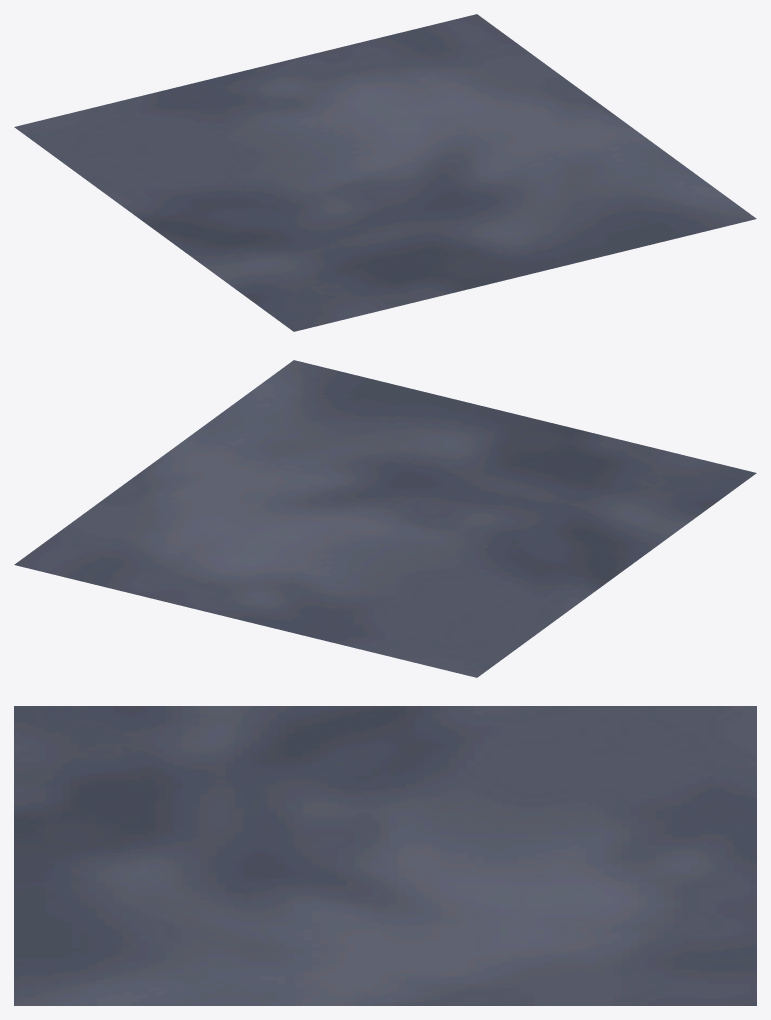
The model's file is WaterPlane_B.fbx.
3 renders of one model, top to bottom at view 1: azimuth 30°, elevation 25°; view 2: azimuth 150°, elevation 25°; view 3: azimuth 270°, elevation 25°, orthographic. The views are drawn at different scales.
Parts seen in each view (by area): view 1: SM_ENV_AMVLLG02_WaterPlane_B.mo; view 2: SM_ENV_AMVLLG02_WaterPlane_B.mo; view 3: SM_ENV_AMVLLG02_WaterPlane_B.mo.
Part boxes in pixels (box(x1,y1,x2,y2)): SM_ENV_AMVLLG02_WaterPlane_B.mo: box(14, 14, 756, 331); SM_ENV_AMVLLG02_WaterPlane_B.mo: box(14, 360, 756, 677); SM_ENV_AMVLLG02_WaterPlane_B.mo: box(14, 706, 756, 1005).
Bounding box in the file's own units: 28752 × 0.00509 × 30101.
